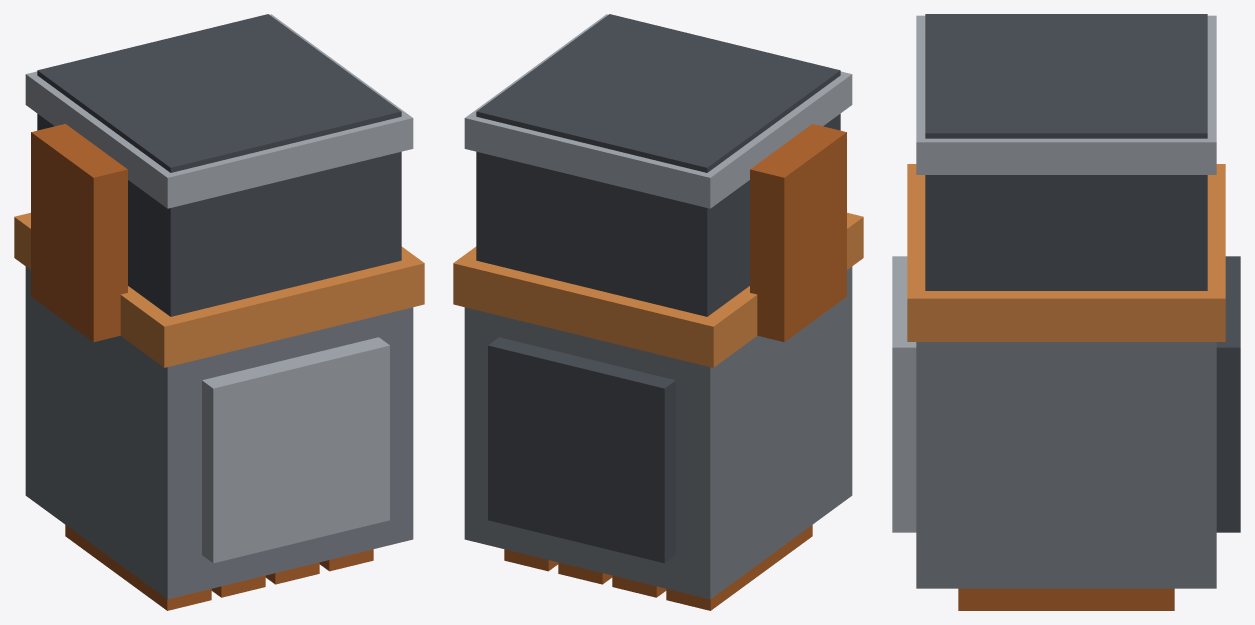
Rendered from Weapon_Gauntlet_R.fbx.
3 views of the same model, side by side, from view 1: azimuth 30°, elevation 25°; view 2: azimuth 150°, elevation 25°; view 3: azimuth 270°, elevation 25° (orthographic). The views are drawn at different scales.
Visible parts, largest first — view 1: Weapon_Gauntlet_R_Mesh; view 2: Weapon_Gauntlet_R_Mesh; view 3: Weapon_Gauntlet_R_Mesh.
Part boxes in pixels (x1=…): Weapon_Gauntlet_R_Mesh: x1=14, y1=14, x2=424, y2=610; Weapon_Gauntlet_R_Mesh: x1=453, y1=14, x2=863, y2=610; Weapon_Gauntlet_R_Mesh: x1=892, y1=14, x2=1240, y2=610.
Size of the model in its own units: 0.3656 by 0.5563 by 0.3625.
